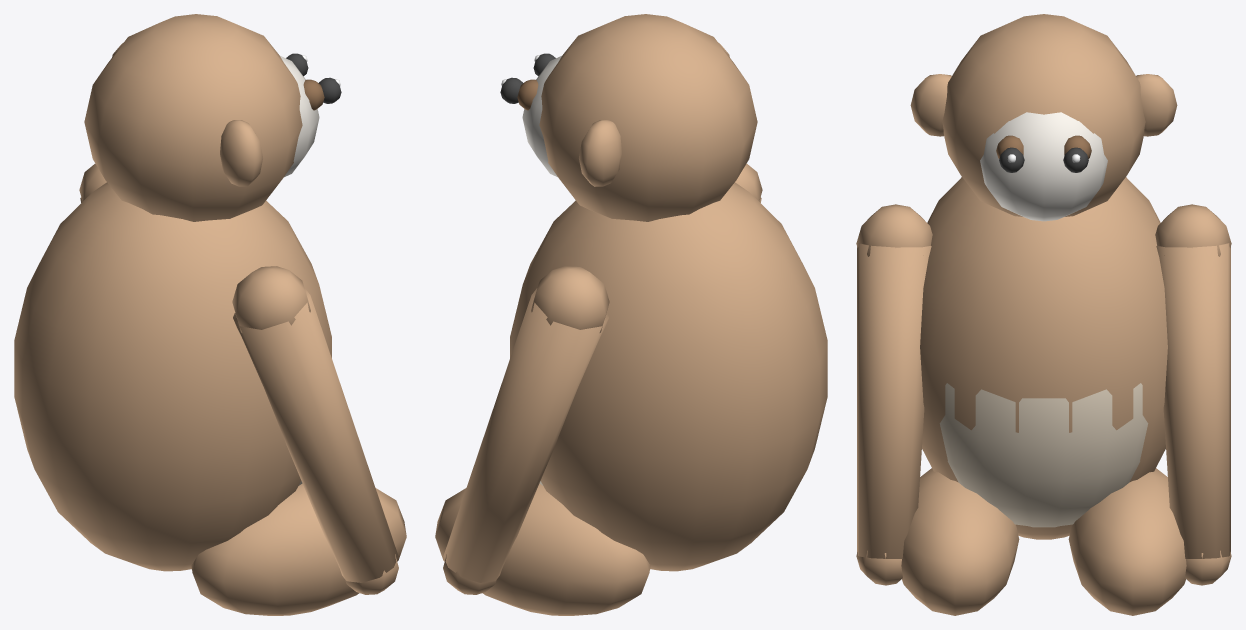
File: pygmy-slow-loris.glb
3 views of the same model, side by side, from view 1: azimuth 30°, elevation 25°; view 2: azimuth 150°, elevation 25°; view 3: azimuth 270°, elevation 25° (orthographic). The views are drawn at different scales.
Parts seen in each view (by area): view 1: e.010, e; view 2: e.010, e; view 3: e.010, e.
Boxes of the visible parts, x1,y1,x2,y2 form: e.010: (14, 163, 406, 615); e: (84, 14, 341, 221); e.010: (435, 163, 827, 615); e: (500, 14, 757, 221); e.010: (856, 177, 1231, 615); e: (910, 14, 1177, 221).
Size of the model in its own units: 0.7319 by 1.22 by 0.76.
